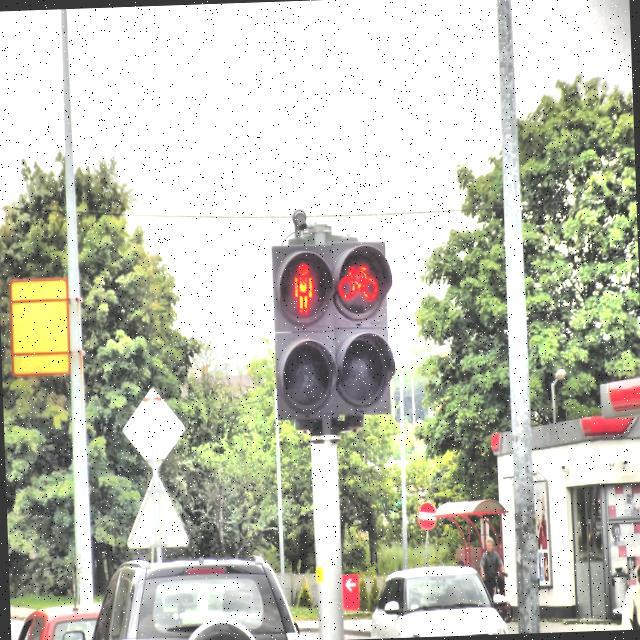red_light: (291, 262, 314, 316)
